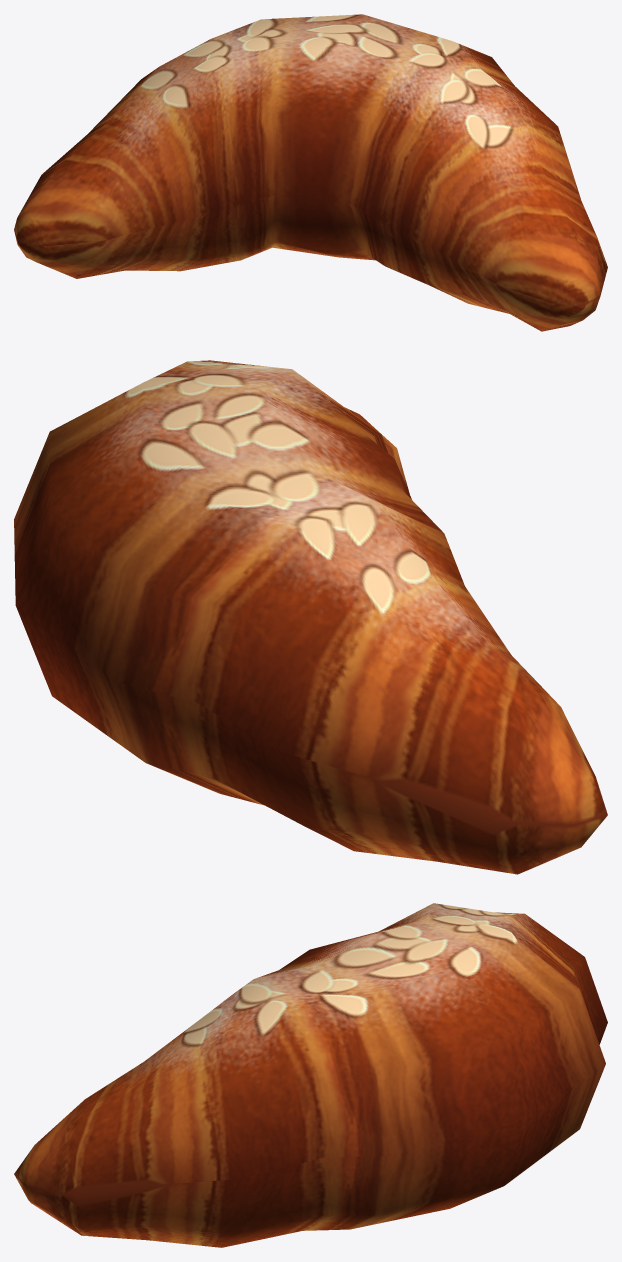
The model's file is 007-Croissant_04.FBX.
3 renders of one model, top to bottom at view 1: azimuth 30°, elevation 25°; view 2: azimuth 150°, elevation 25°; view 3: azimuth 270°, elevation 25°, orthographic. The views are drawn at different scales.
Visible parts, largest first — view 1: 007-Croissant_04; view 2: 007-Croissant_04; view 3: 007-Croissant_04.
Part boxes in pixels (<box>): 007-Croissant_04: <box>14,14,607,331</box>; 007-Croissant_04: <box>14,360,607,874</box>; 007-Croissant_04: <box>14,903,607,1247</box>.
Bounding box in the file's own units: 14.22 × 6.62 × 14.22.
